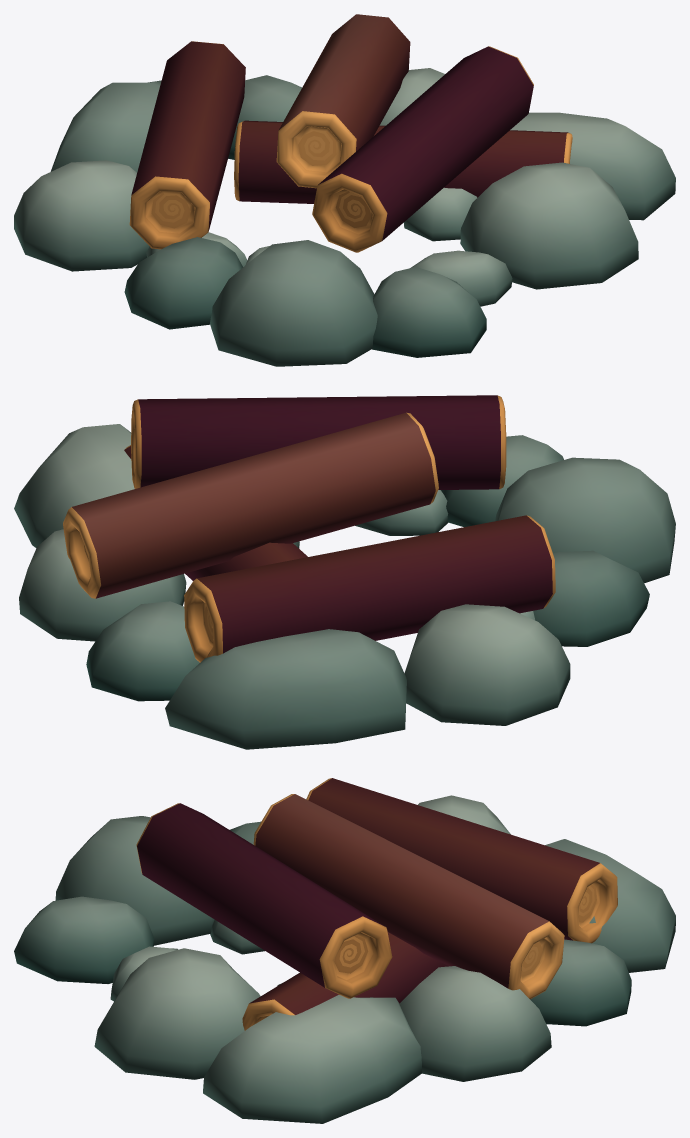
File: SM_campfire_005.fbx
The picture shows the model from 3 angles, top to bottom: view 1: azimuth 30°, elevation 25°; view 2: azimuth 150°, elevation 25°; view 3: azimuth 270°, elevation 25°; orthographic projection. The views are drawn at different scales.
Parts seen in each view (by area): view 1: SM_campfire_005; view 2: SM_campfire_005; view 3: SM_campfire_005.
Boxes of the visible parts, x1,y1,x2,y2 form: SM_campfire_005: (14,14,675,366); SM_campfire_005: (14,395,675,749); SM_campfire_005: (14,778,675,1123).
Size of the model in its own units: 148 by 39.95 by 150.
